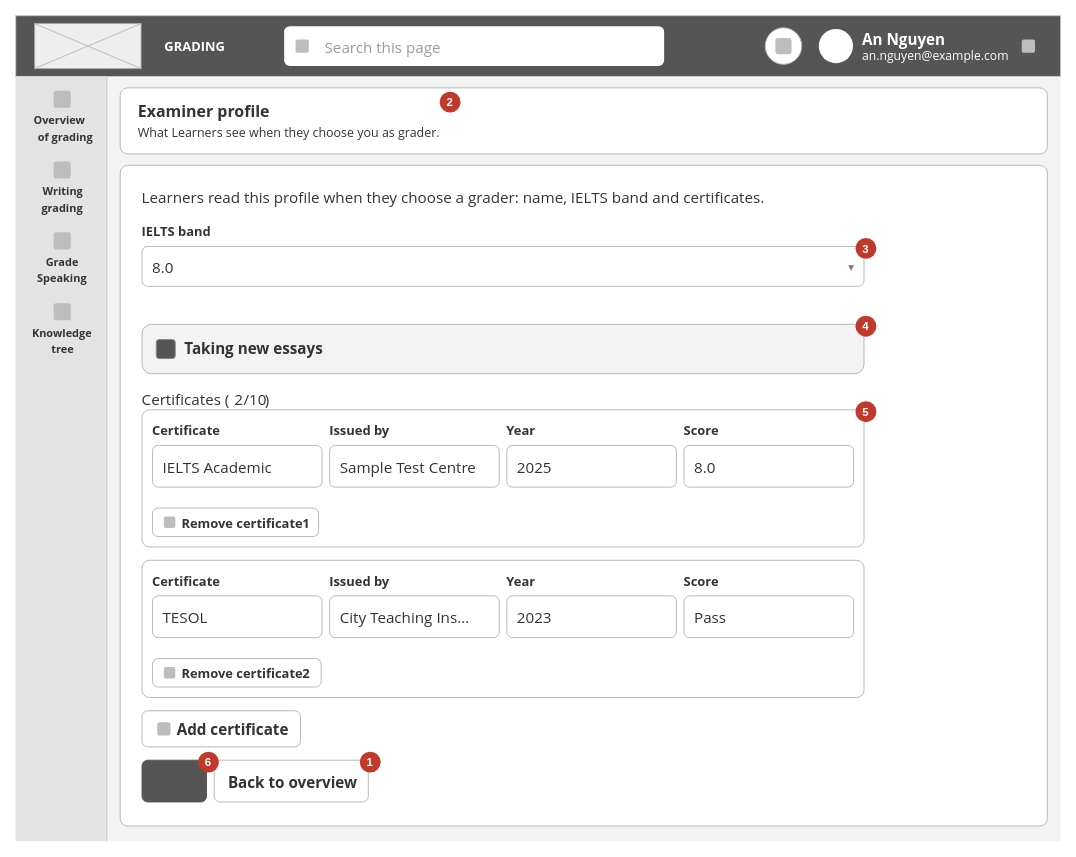
The diagram is 1076 pixels wide and 857 high, and some of its shapes have lost their labels. Each missing label, with the box of its shape:
AN: (818, 28, 853, 63)
Save: (141, 759, 207, 802)
